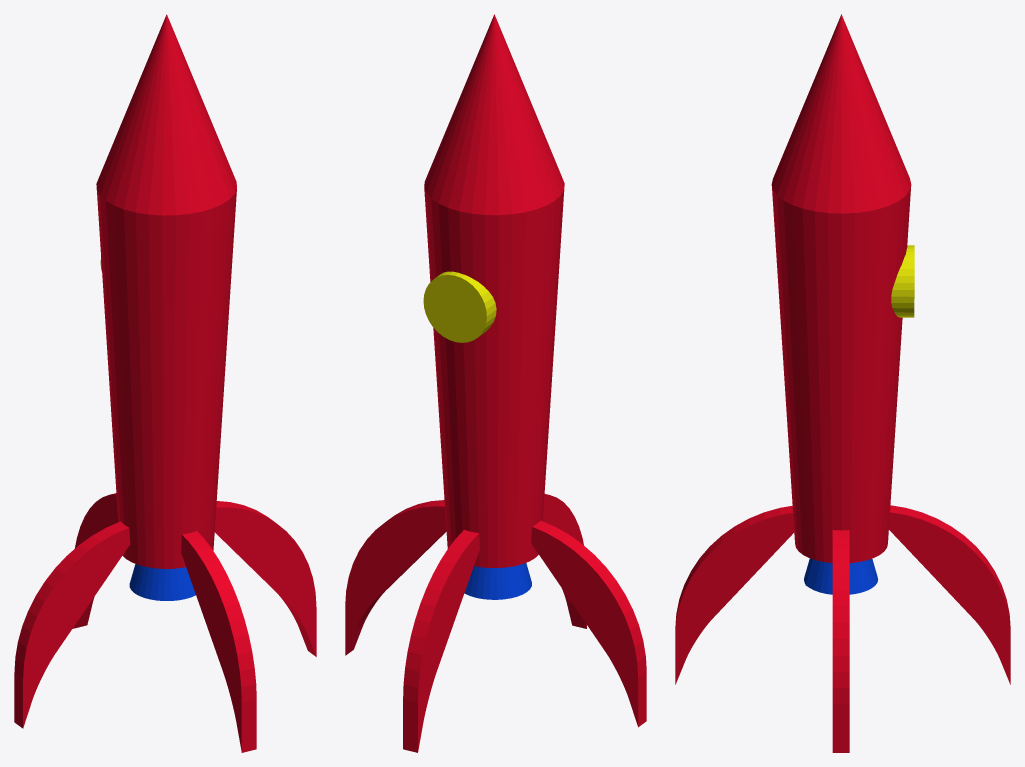
Rendered from Rocketship.fbx.
3 renders of one model, left to right at view 1: azimuth 30°, elevation 25°; view 2: azimuth 150°, elevation 25°; view 3: azimuth 270°, elevation 25°, orthographic.
Visible parts, largest first — view 1: Rocketship; view 2: Rocketship; view 3: Rocketship.
Boxes of the visible parts, box(x1,y1,x2,y2) form: Rocketship: box(14, 14, 316, 752); Rocketship: box(345, 14, 646, 752); Rocketship: box(675, 14, 1010, 752).
Size of the model in its own units: 321 by 705 by 321.
